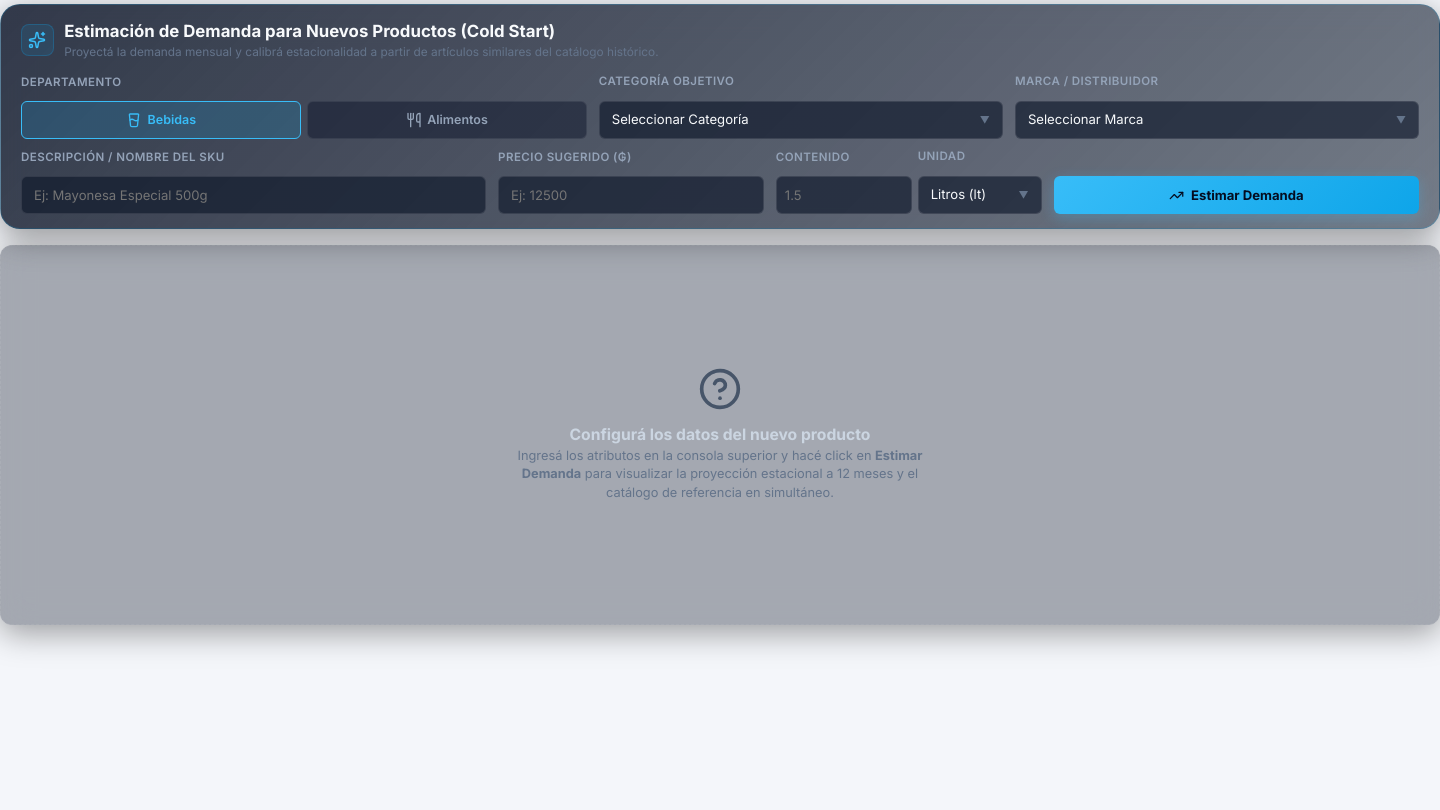
Scenario: ColdStartView › validaciones del formulario › exige un precio sugerido mayor a cero
expect the text "Bebidas" is shown: met, box [148,111,196,130]
Click the text "Seleccionar Categoría".
click(680, 120)  # box [612,110,749,130]
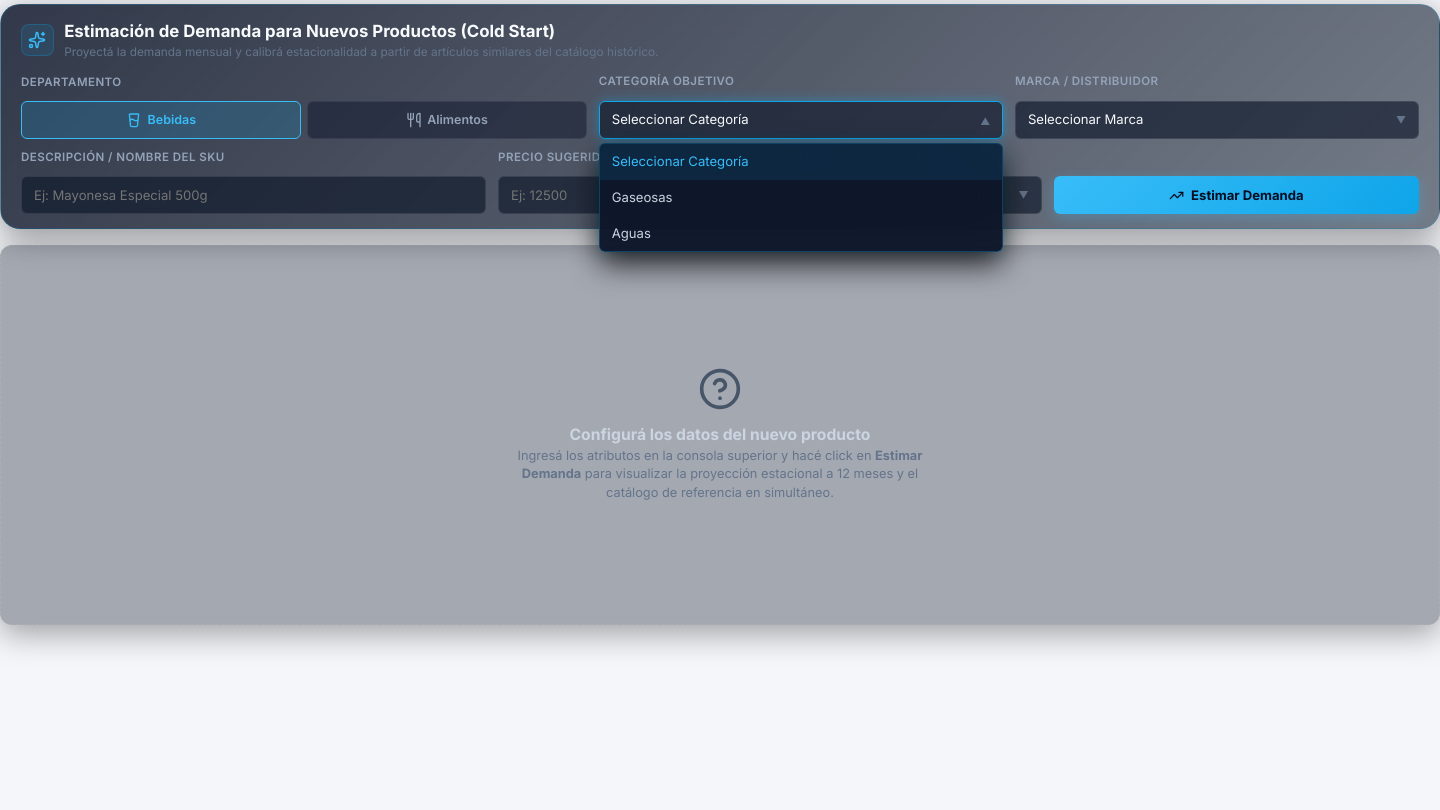
Click the text "Gaseosas".
click(642, 197)  # box [612,189,673,205]
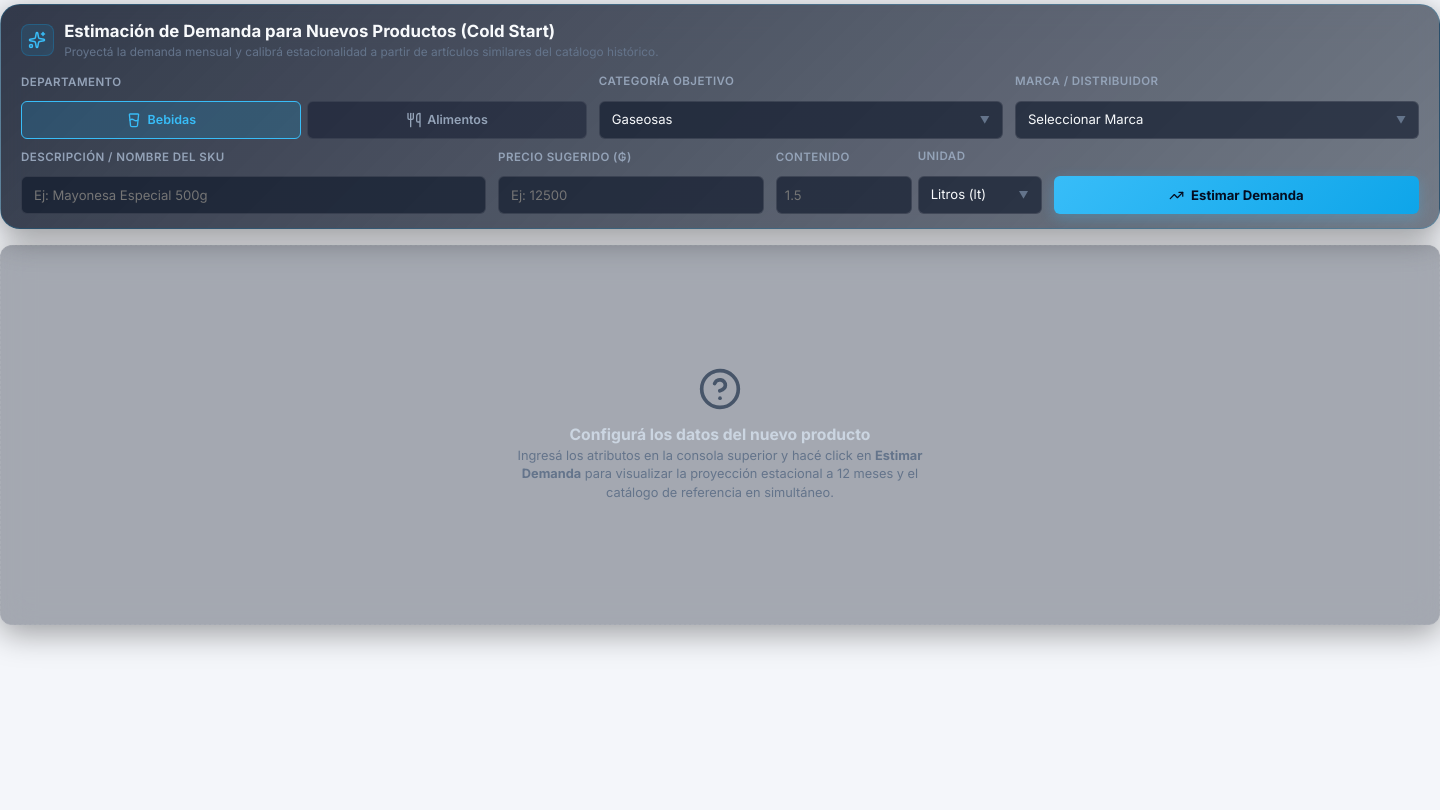
Click the text "Seleccionar Marca".
click(1086, 120)  # box [1028,110,1143,130]
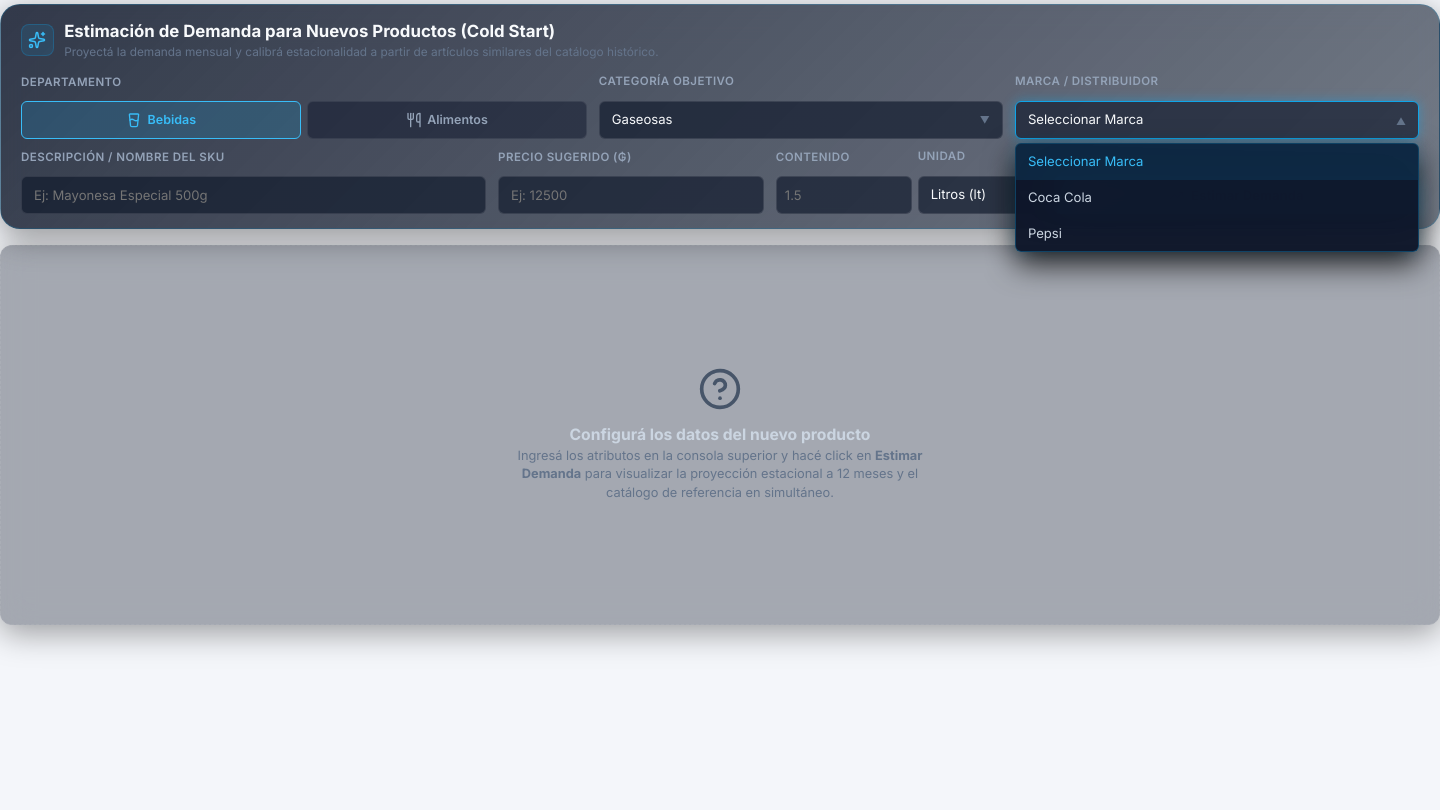
Click the text "Coca Cola".
click(1060, 197)  # box [1028,189,1092,205]
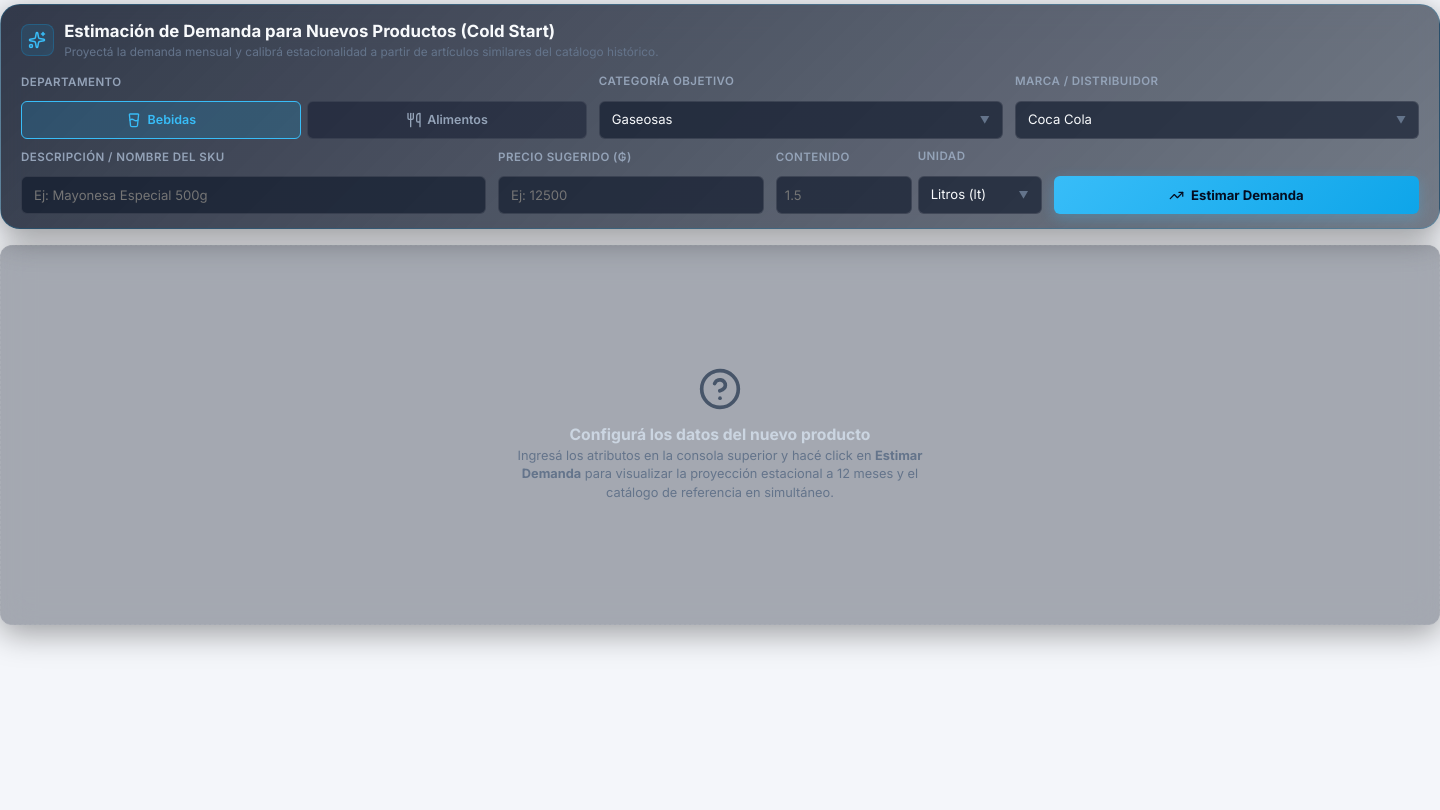
Type "Gaseosa Cola 2L" into the field with placeholder "Ej: Mayonesa Especial 500g".
click(254, 195); type("Gaseosa Cola 2L")  # box [21,176,486,214]
Type "0" into the number field with placeholder "Ej: 12500".
click(631, 195); type("0")  # box [498,176,764,214]
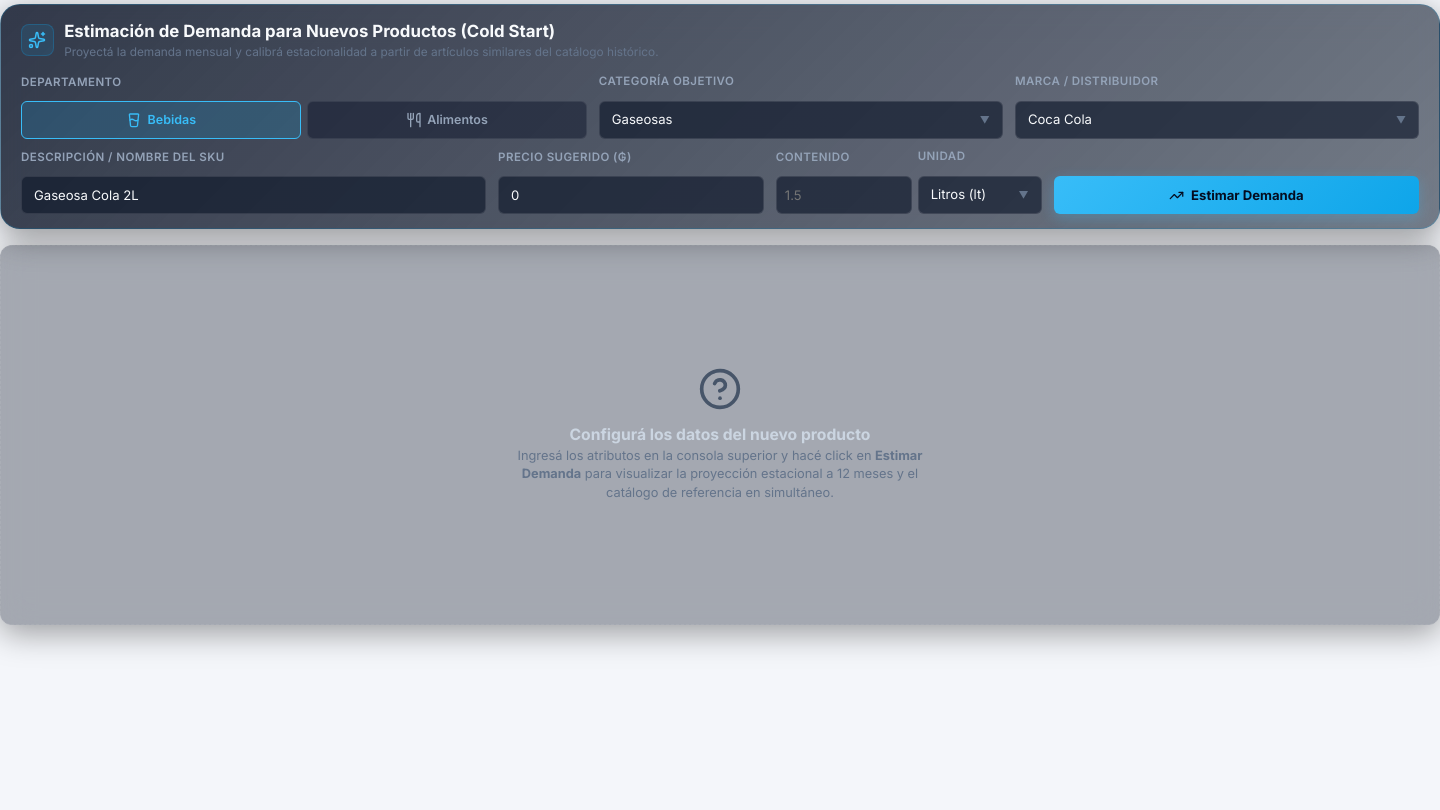
Submit the form named "estimar demanda", box [21,74,1419,214]
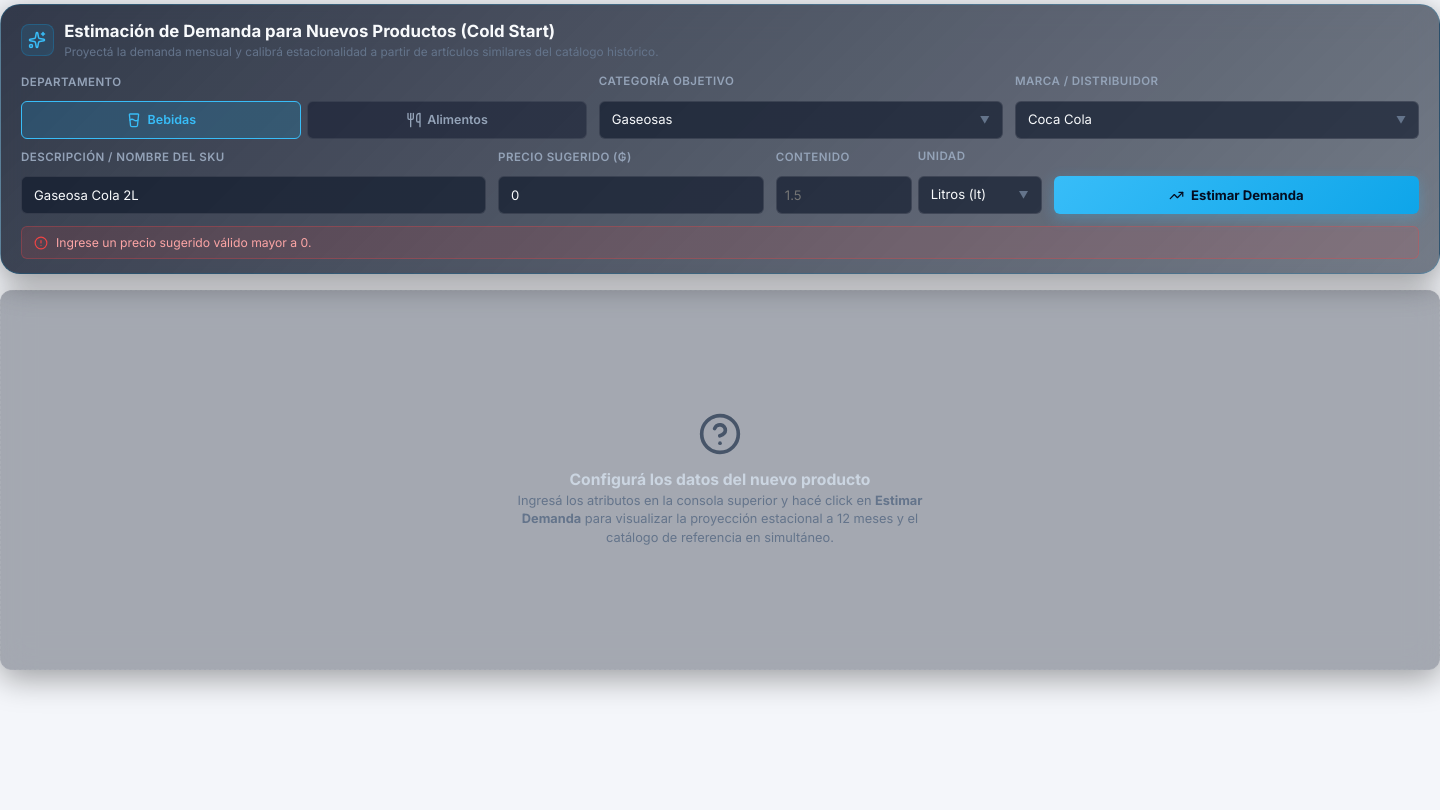
expect the text "Ingrese un precio sugerido válido mayor a 0." is shown: met, box [56,234,311,252]
